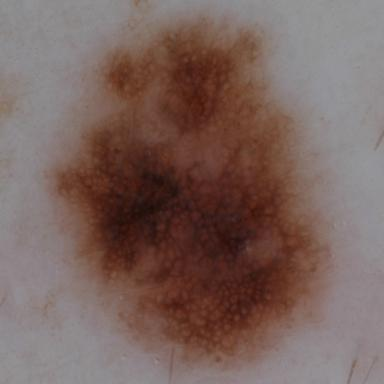nevus: (58, 19, 328, 355)
